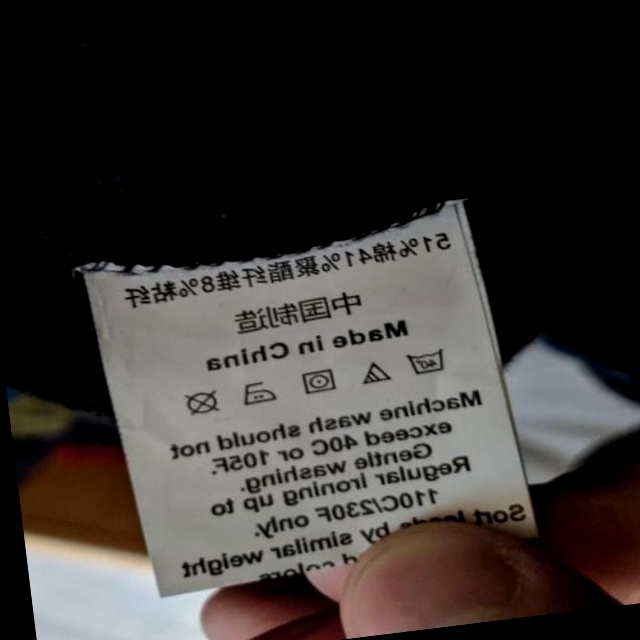40C: (400, 345, 451, 379)
DN_dry_clean: (179, 386, 224, 419)
iron_medium: (238, 377, 280, 407)
non_chlorine_bleach: (357, 359, 391, 389)
tumble_dry_low: (294, 364, 338, 396)
